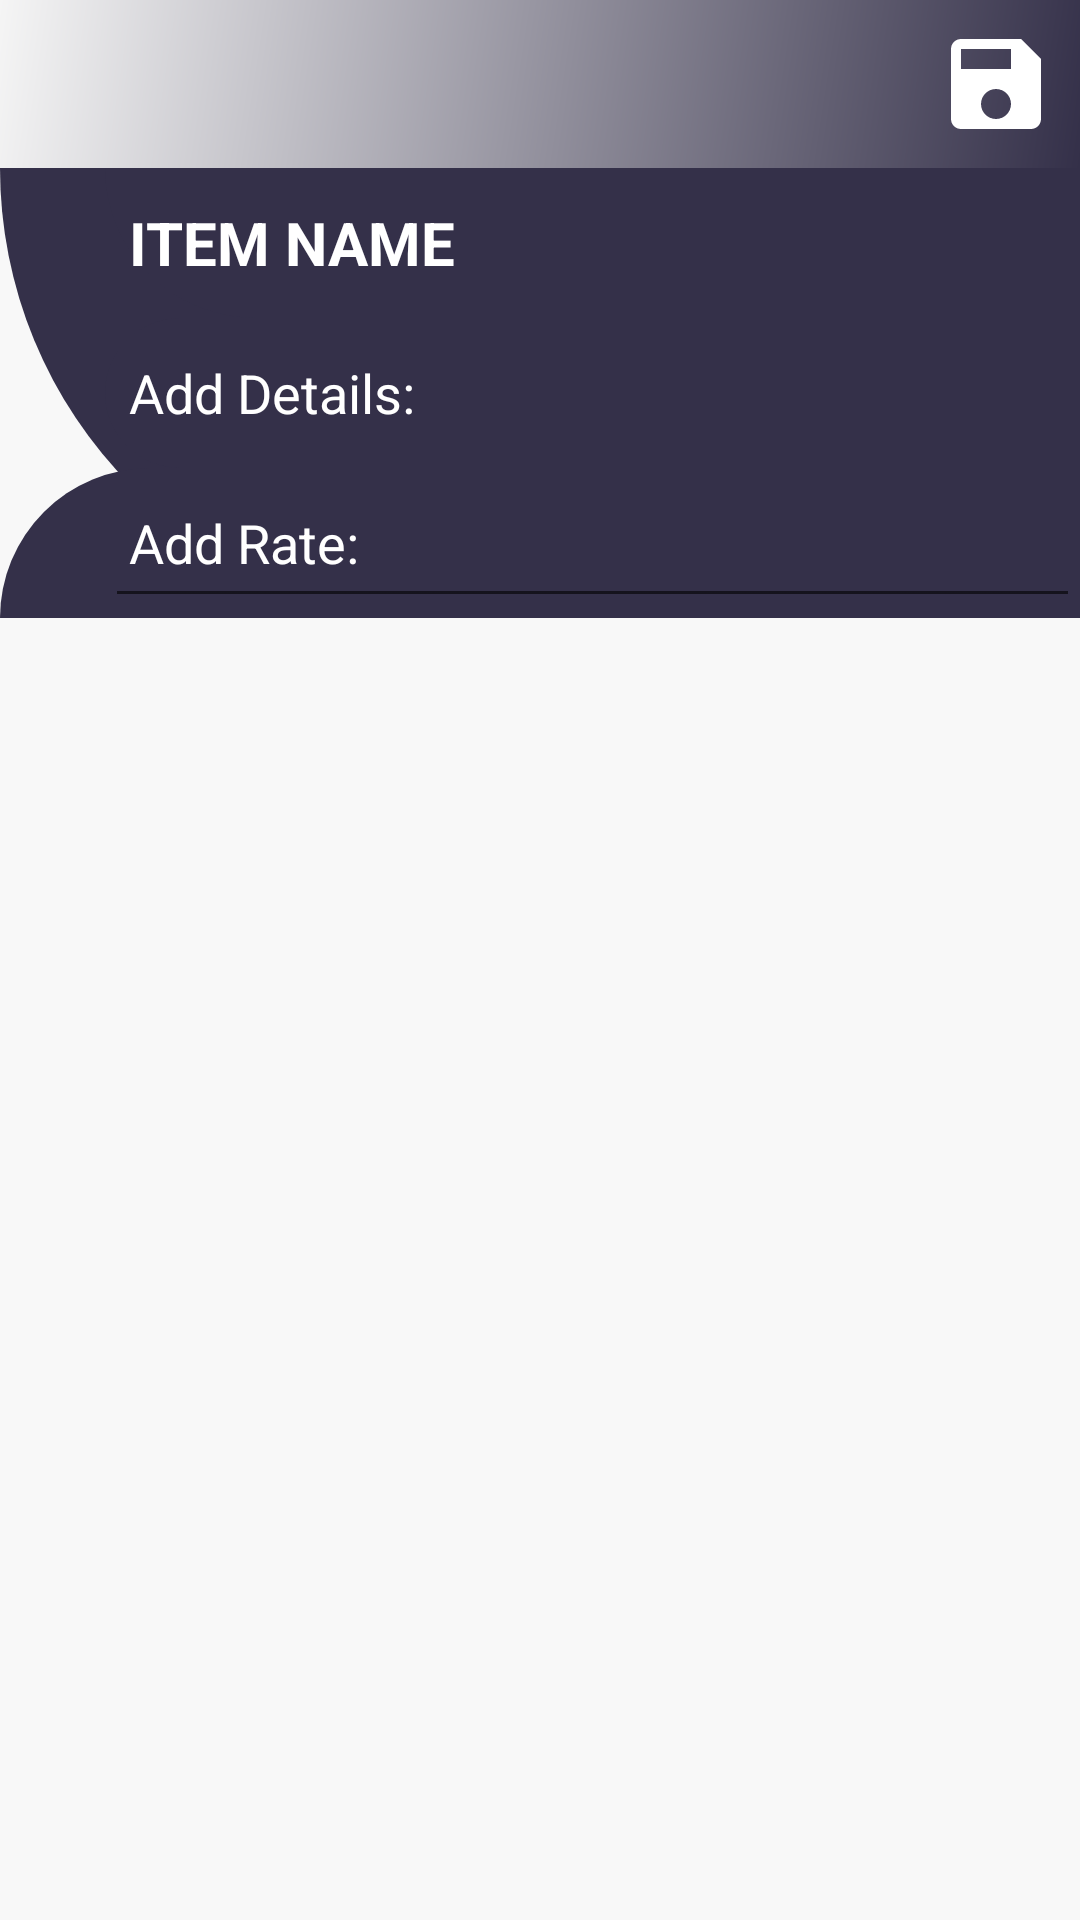

Point at icon controls on the screen. Image size 1080*1920, points as (x=x, y=y).
save: (x=996, y=84)
